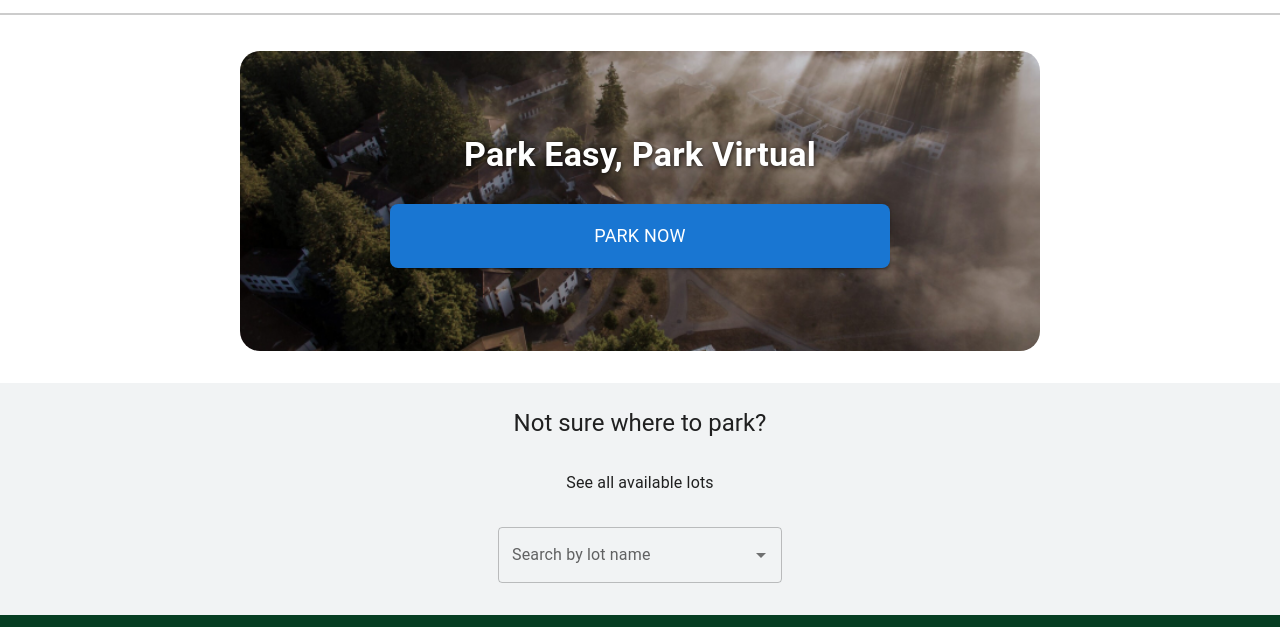
Test: selects a lot and shows its details
Click the dropdown labelled "Search by lot name".
click(625, 555)  # box [507,536,743,574]
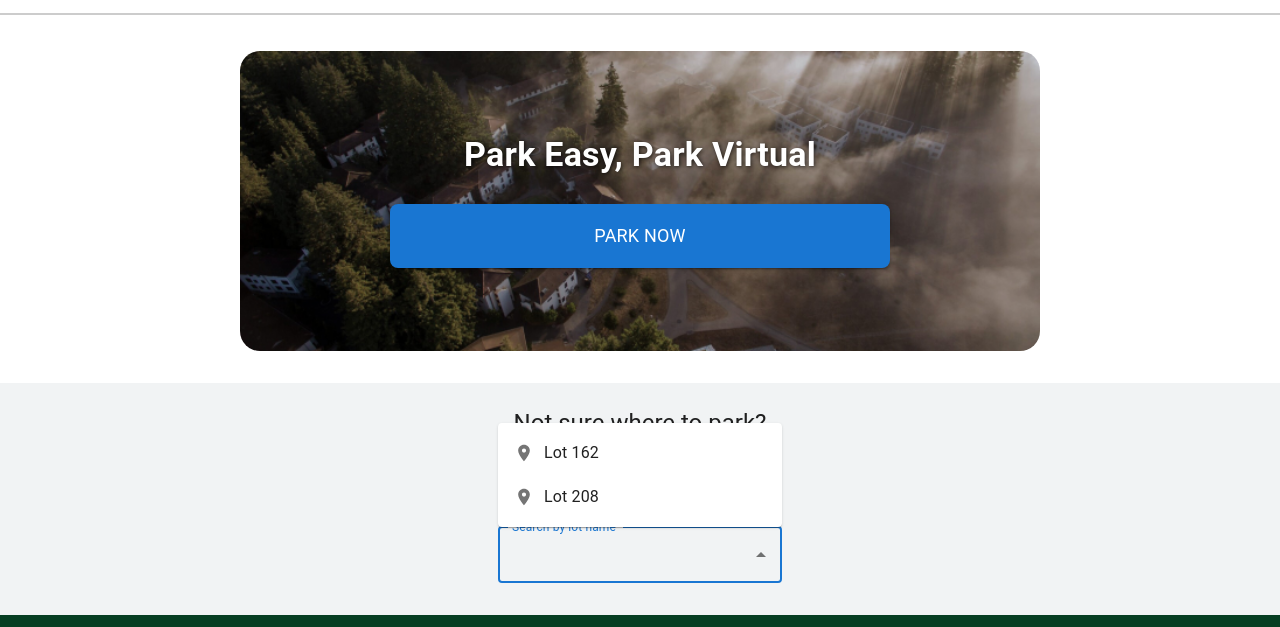
Click the option "Lot 208".
click(556, 497)  # box [514,487,599,507]
(page scrolled)
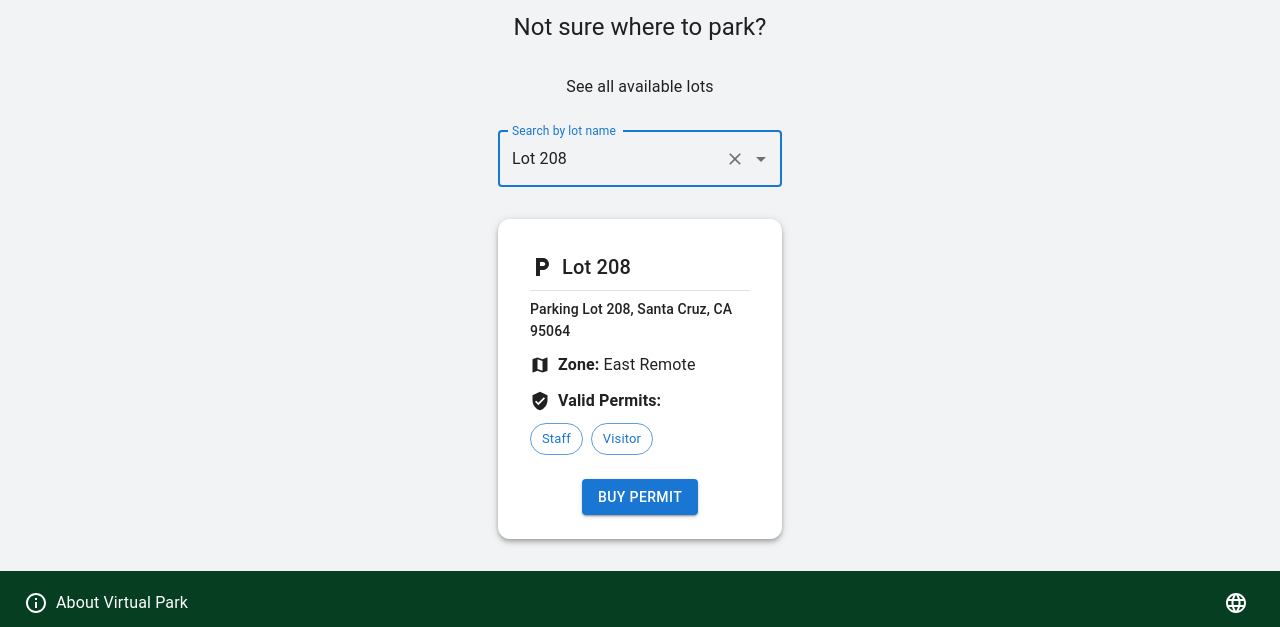
Expected: the heading "Zone: East Remote" is shown, [530,354,696,374]
